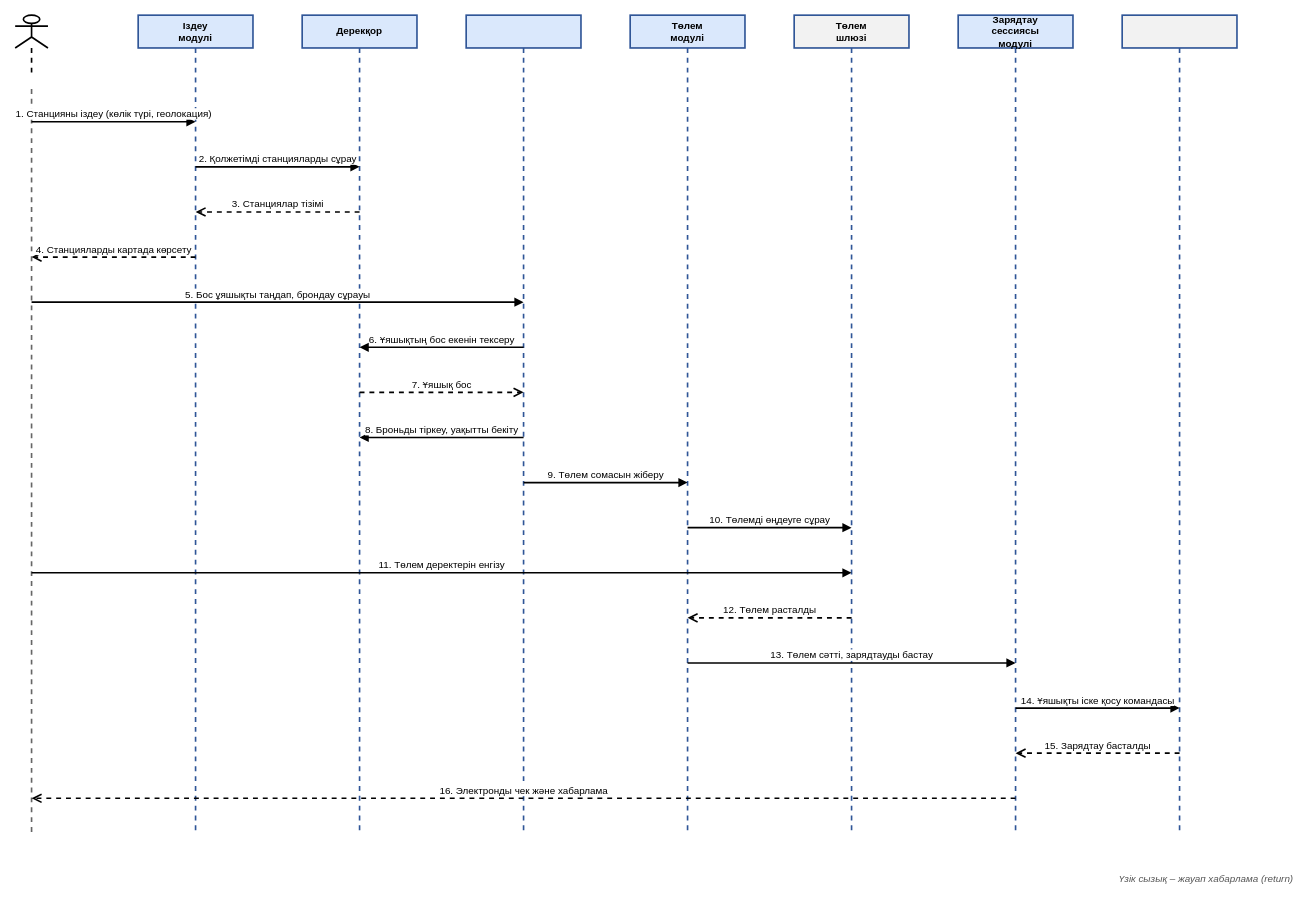
Image size: 1308x902. Some labels were removed from this diagram. Each missing label, with the box of its shape:
Брондау модулі: (465, 14, 581, 836)
Көлік иесі: (14, 14, 48, 73)
Станция контроллері: (1121, 14, 1237, 836)
